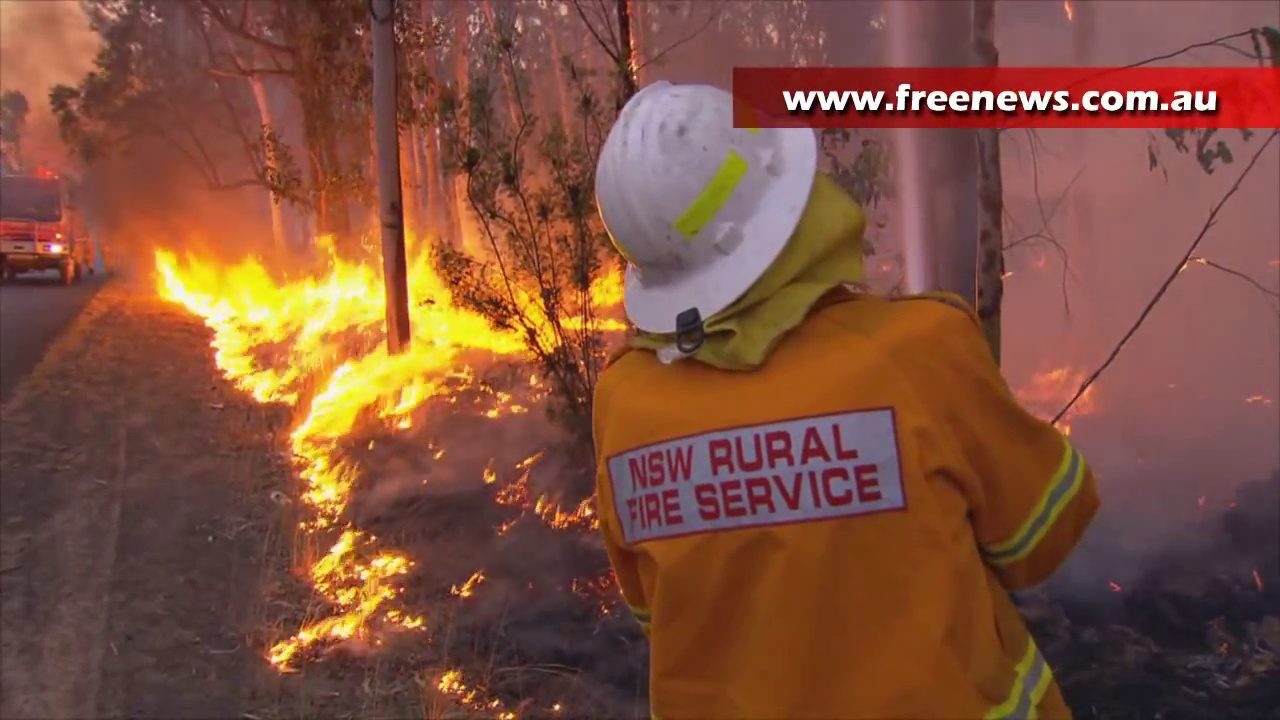fire: (142, 252, 386, 402), (269, 537, 420, 670), (405, 254, 557, 357), (291, 406, 365, 519), (548, 499, 599, 528), (592, 270, 623, 310)
